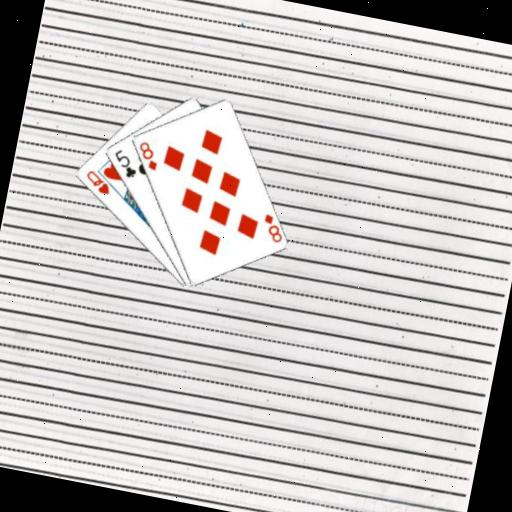5C: (107, 145, 142, 181)
8D: (132, 138, 163, 174), (257, 209, 288, 245)
QH: (81, 167, 115, 197)
